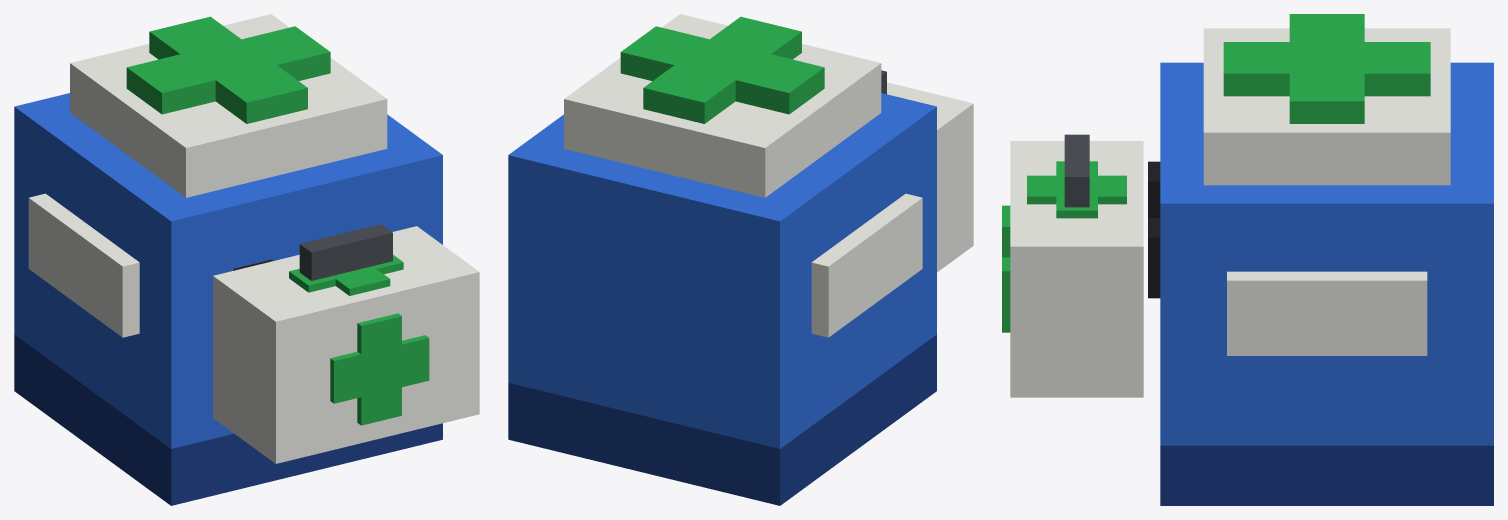
The model's file is medic_blue.fbx.
3 renders of one model, left to right at view 1: azimuth 30°, elevation 25°; view 2: azimuth 150°, elevation 25°; view 3: azimuth 270°, elevation 25°, orthographic. The views are drawn at different scales.
Parts seen in each view (by area): view 1: medic_blue; view 2: medic_blue; view 3: medic_blue.
Boxes of the visible parts, <box> form: medic_blue: <box>14,14,479,505</box>; medic_blue: <box>508,14,973,505</box>; medic_blue: <box>1002,14,1493,505</box>.
Size of the model in its own units: 0.45 by 0.5 by 0.59.
